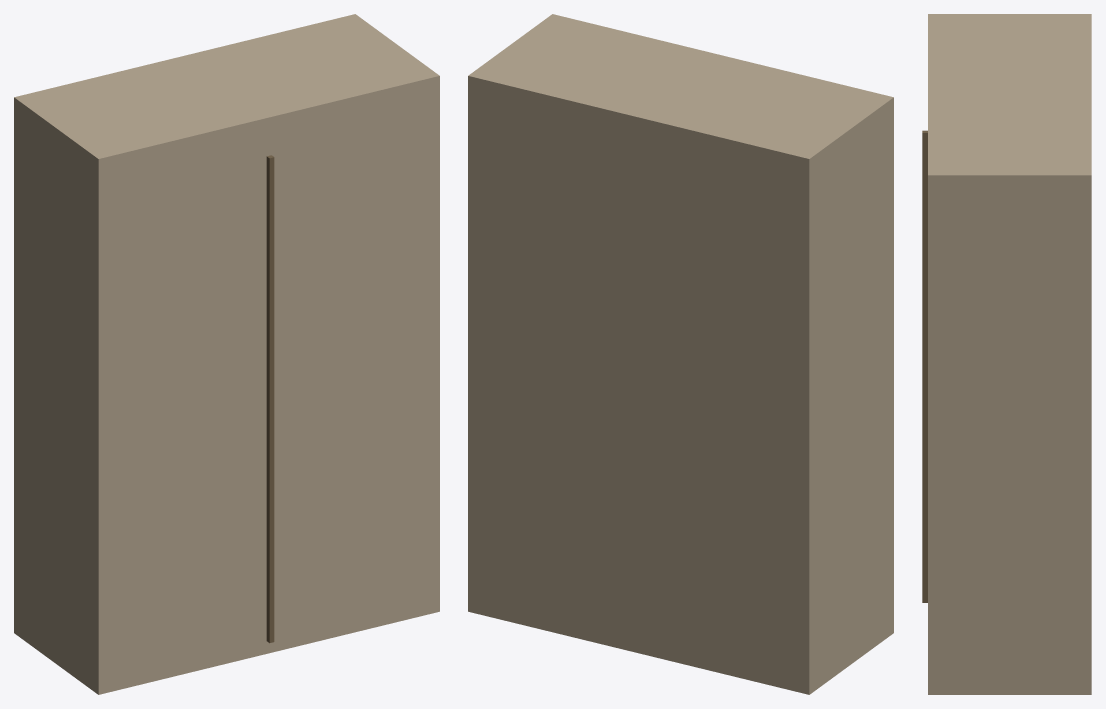
The model's file is wardrobe.glb.
The picture shows the model from 3 angles, left to right: view 1: azimuth 30°, elevation 25°; view 2: azimuth 150°, elevation 25°; view 3: azimuth 270°, elevation 25°; orthographic projection. The views are drawn at different scales.
Parts seen in each view (by area): view 1: wardrobe; view 2: wardrobe; view 3: wardrobe.
Part boxes in pixels (box(x1,y1,x2,y2)): wardrobe: box(14, 14, 439, 694); wardrobe: box(468, 14, 893, 694); wardrobe: box(922, 14, 1091, 694).
Bounding box in the file's own units: 1.4 × 2.1 × 0.62.
